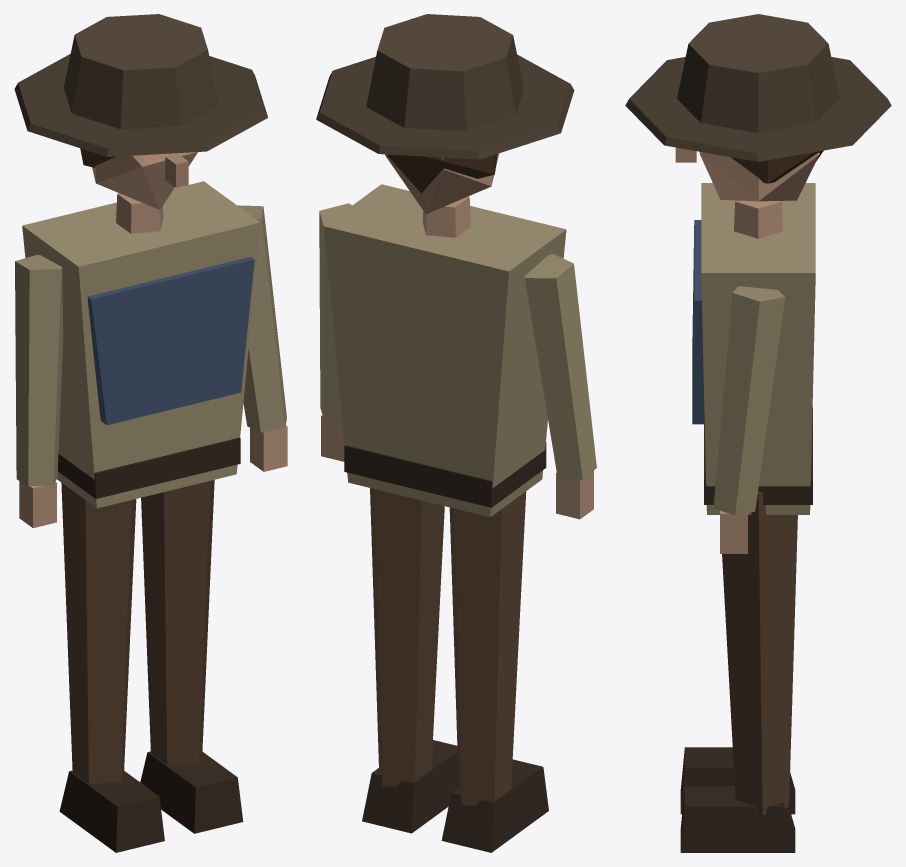
The model's file is person.glb.
The picture shows the model from 3 angles, left to right: view 1: azimuth 30°, elevation 25°; view 2: azimuth 150°, elevation 25°; view 3: azimuth 270°, elevation 25°; orthographic projection.
Visible parts, largest first — view 1: person; view 2: person; view 3: person.
Part boxes in pixels (x1,y1,x2,y2): person: (14, 14, 287, 852); person: (316, 14, 596, 852); person: (625, 14, 891, 852).
Bounding box in the file's own units: 0.6449 × 1.78 × 0.5533.
